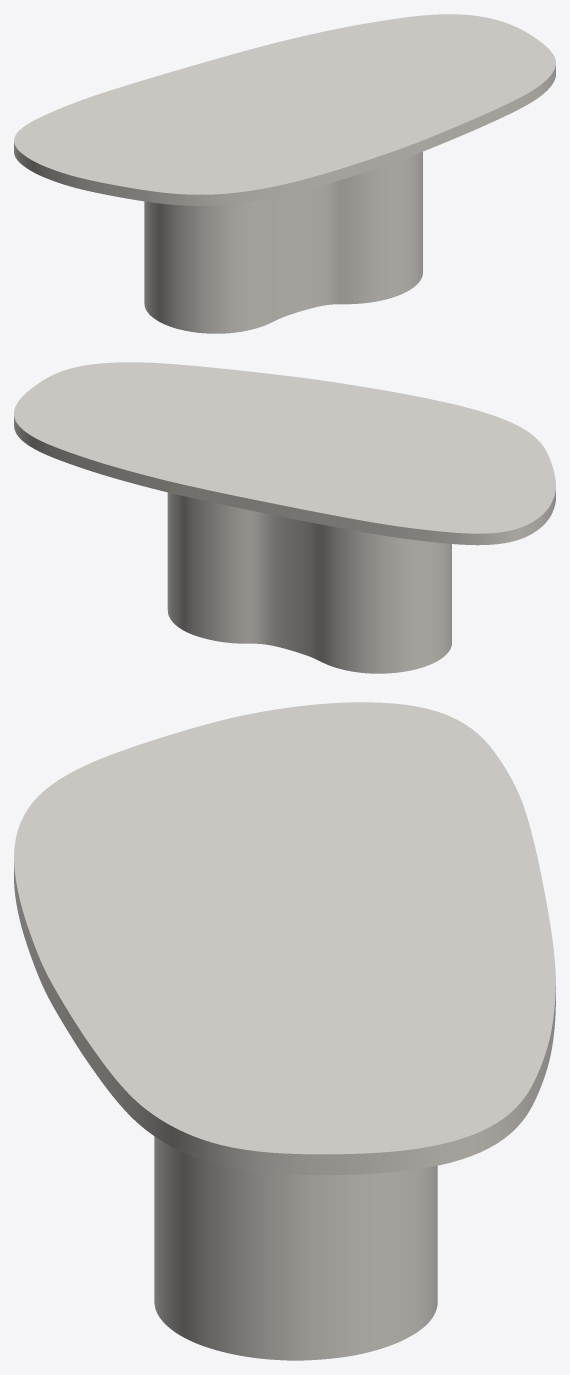
Rendered from pearlwhite_leaf2_standard_riverwave.glb.
The picture shows the model from 3 angles, top to bottom: view 1: azimuth 30°, elevation 25°; view 2: azimuth 150°, elevation 25°; view 3: azimuth 270°, elevation 25°; orthographic projection. The views are drawn at different scales.
Visible parts, largest first — view 1: standard_leaf2, riverwave; view 2: standard_leaf2, riverwave; view 3: standard_leaf2, riverwave.
Part boxes in pixels (x1=…): standard_leaf2: x1=14, y1=14, x2=555, y2=205; riverwave: x1=144, y1=152, x2=422, y2=333; standard_leaf2: x1=14, y1=362, x2=555, y2=545; riverwave: x1=167, y1=492, x2=451, y2=673; standard_leaf2: x1=14, y1=702, x2=555, y2=1174; riverwave: x1=154, y1=1136, x2=437, y2=1360.
Size of the model in its own units: 7.5 by 2.52 by 3.8.
1 material, 1 textured.
